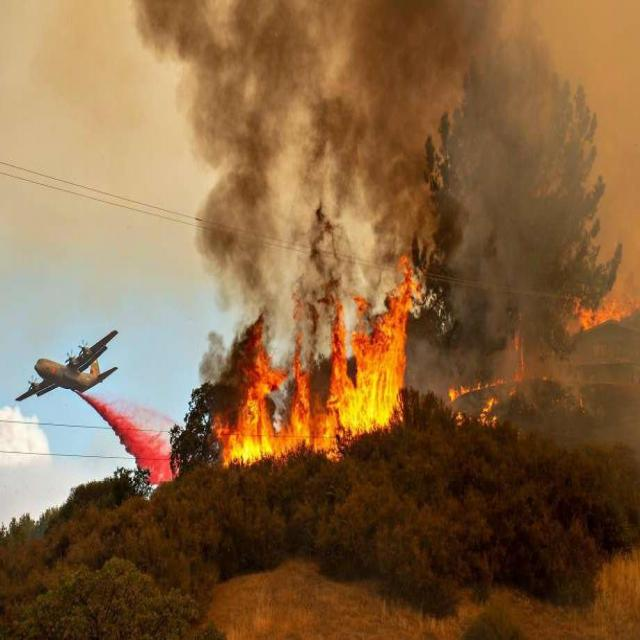fire: (217, 220, 415, 459)
